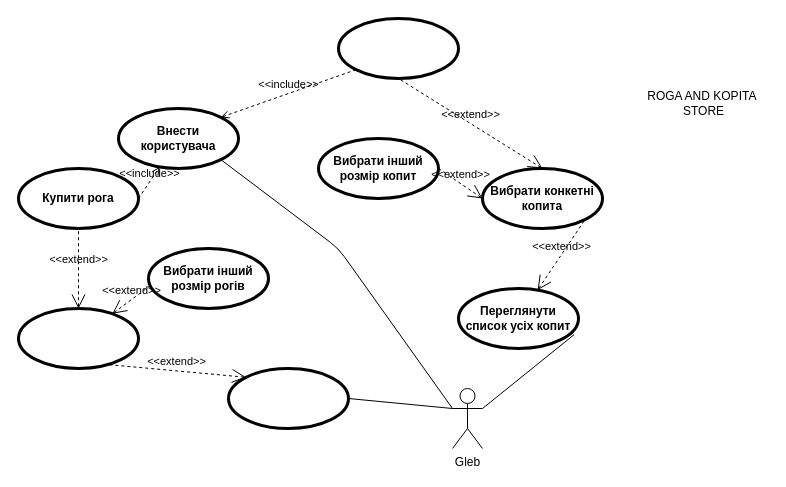
The diagram is 786 pixels wide and 487 high, and some of its shapes have lost their labels. Each missing label, with the box of its shape:
Купити копита: (336, 16, 460, 80)
Переглянути список усіх рогів: (226, 366, 350, 430)
Перейти на сторінку конкретних рогів: (16, 306, 140, 370)
